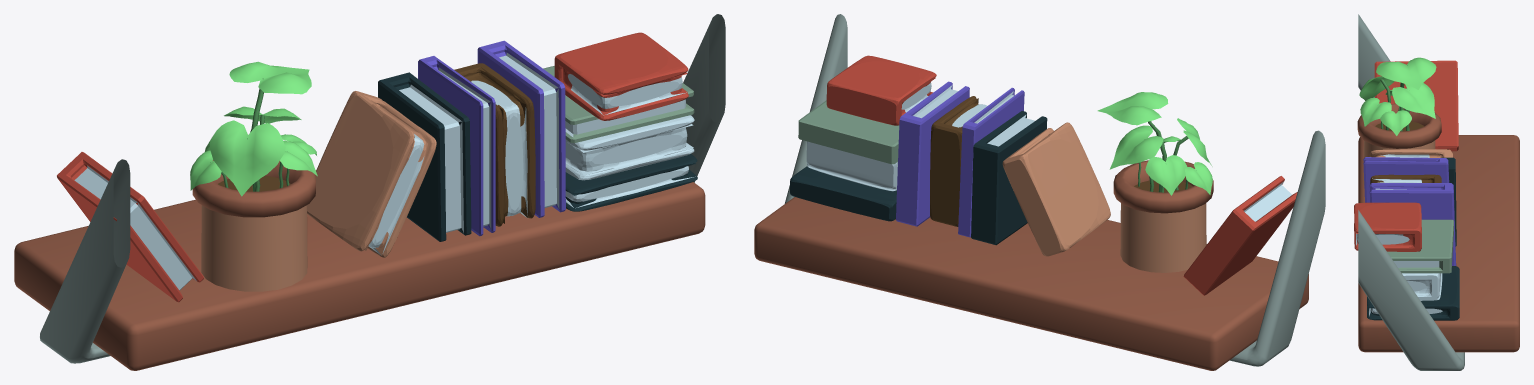
File: Estanteria.01.fbx
3 views of the same model, side by side, from view 1: azimuth 30°, elevation 25°; view 2: azimuth 150°, elevation 25°; view 3: azimuth 270°, elevation 25° (orthographic). The views are drawn at different scales.
Visible parts, largest first — view 1: Estanteria.001, Planta.004, Cube.003, Cube.023, Cube.020, Cube.014, Cube.004, Cube.016, Cube.019, Cube.025, Cube.015, Cube.024; view 2: Estanteria.001, Planta.004, Cube.003, Cube.020, Cube.014, Cube.023, Cube.004, Cube.016, Cube.024, Cube.015, Cube.019, Cube.025; view 3: Estanteria.001, Planta.004, Cube.023, Cube.014, Cube.004, Cube.024, Cube.019, Cube.015, Cube.025, Cube.003, Cube.016, Cube.020.
Boxes of the visible parts, x1,y1,x2,y2 form: Estanteria.001: (14,14,725,370); Planta.004: (190,61,317,291); Cube.003: (307,91,436,257); Cube.023: (554,32,688,120); Cube.020: (378,72,471,241); Cube.014: (57,152,203,302); Cube.004: (477,40,565,217); Cube.016: (454,63,535,226); Cube.019: (418,56,495,236); Cube.025: (565,115,694,180); Cube.015: (565,154,697,211); Cube.024: (543,66,694,143); Estanteria.001: (754,14,1325,370); Planta.004: (1097,92,1213,272); Cube.003: (1002,122,1110,256); Cube.020: (971,111,1047,245); Cube.014: (1183,176,1297,295); Cube.023: (826,55,936,125); Cube.004: (896,81,969,226); Cube.016: (930,96,987,226); Cube.024: (798,100,899,164); Cube.015: (790,166,896,221); Cube.019: (958,87,1024,237); Cube.025: (806,141,897,191); Estanteria.001: (1358,14,1519,370); Planta.004: (1357,57,1441,185); Cube.023: (1354,202,1421,251); Cube.014: (1374,60,1458,151); Cube.004: (1369,183,1456,265); Cube.024: (1387,219,1453,273); Cube.019: (1363,157,1449,202); Cube.015: (1367,266,1459,320); Cube.025: (1402,273,1442,300); Cube.003: (1369,149,1452,157); Cube.016: (1370,174,1441,183); Cube.020: (1441,157,1456,246).
Size of the model in its own units: 2.12 by 0.739 by 0.8528.
